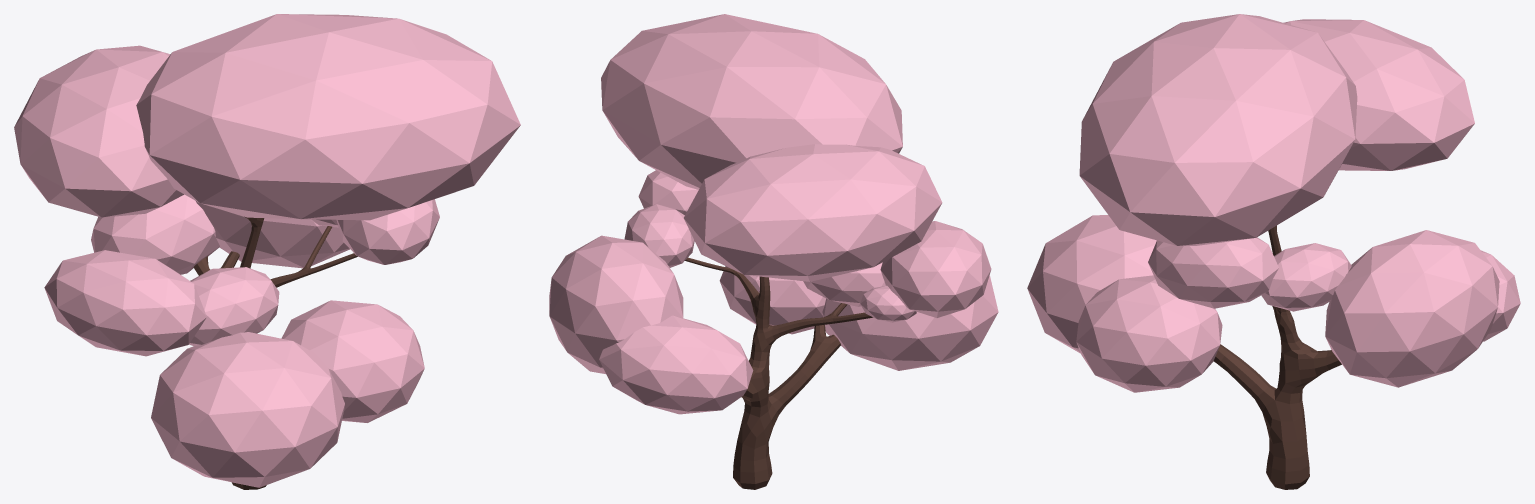
File: arbolCerezoV2.fbx
3 views of the same model, side by side, from view 1: azimuth 30°, elevation 25°; view 2: azimuth 150°, elevation 25°; view 3: azimuth 270°, elevation 25° (orthographic). The views are drawn at different scales.
Parts seen in each view (by area): view 1: Cube; view 2: Cube; view 3: Cube.
Part boxes in pixels (left/top/right/bottom): Cube: left=14, top=14, right=520, bottom=489; Cube: left=549, top=14, right=998, bottom=489; Cube: left=1027, top=14, right=1520, bottom=489.
Bounding box in the file's own units: 3357 × 3501 × 3425.
